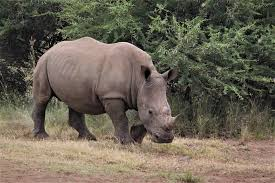Rhinoceros: (20, 32, 182, 151)
